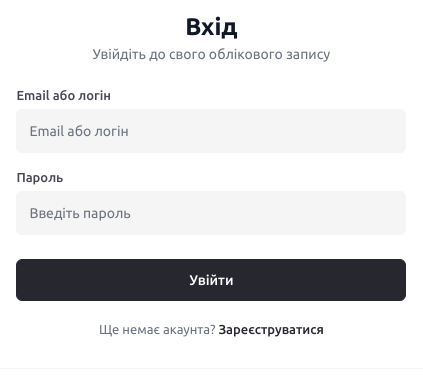
Scenario: Login › відображає помилку авторизації
Type "testuser" into the field labelled "Email або логін" at x=211, y=131, box [16,109,406,153]
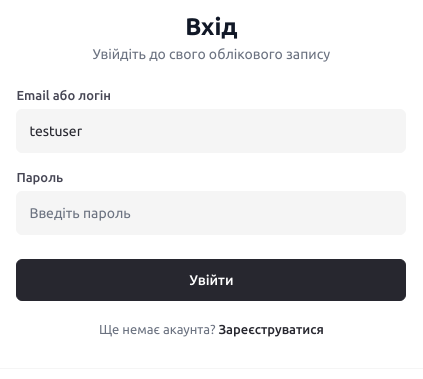
Type "Password123" into the password field labelled "Пароль" at x=211, y=213, box [16,191,406,235]
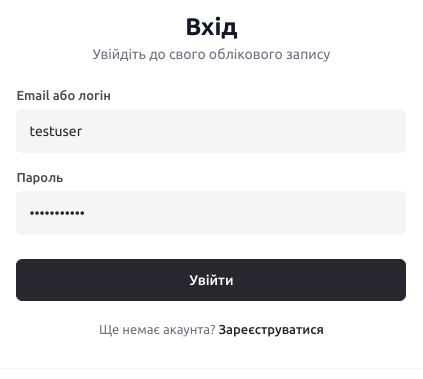
Click the button "Увійти" at x=211, y=280, box [16,259,406,301]
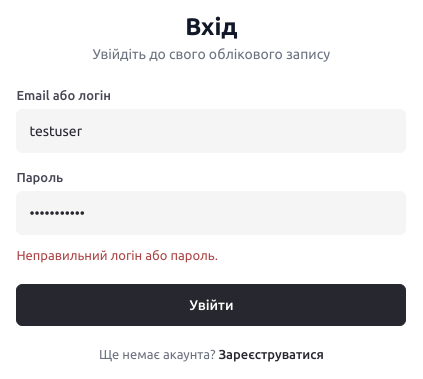
Now the text "Неправильний логін або пароль." is shown, box [16,248,218,262]
